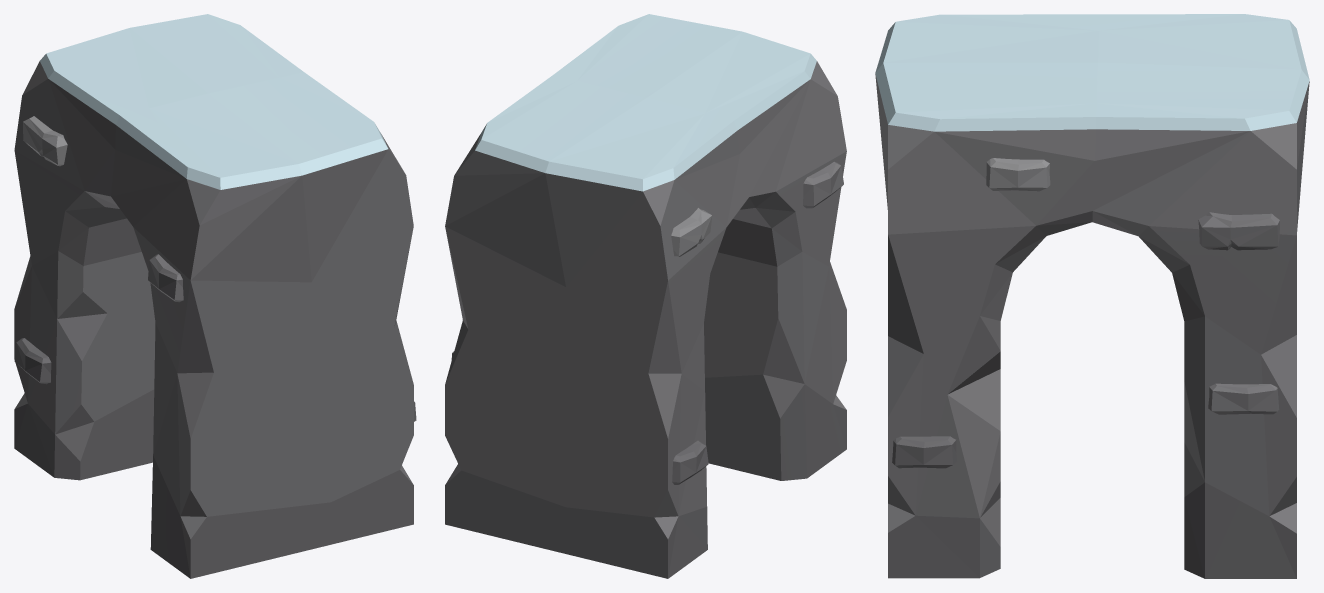
The model's file is SM_Bld_Rockwall_Archway_01_Snow.gltf.
3 views of the same model, side by side, from view 1: azimuth 30°, elevation 25°; view 2: azimuth 150°, elevation 25°; view 3: azimuth 270°, elevation 25° (orthographic). The views are drawn at different scales.
Visible parts, largest first — view 1: SM_Bld_Rockwall_Archway_01_Snow; view 2: SM_Bld_Rockwall_Archway_01_Snow; view 3: SM_Bld_Rockwall_Archway_01_Snow.
Part boxes in pixels (bbox=[...]): SM_Bld_Rockwall_Archway_01_Snow: bbox=[14, 14, 416, 578]; SM_Bld_Rockwall_Archway_01_Snow: bbox=[445, 14, 846, 578]; SM_Bld_Rockwall_Archway_01_Snow: bbox=[875, 14, 1309, 578].
Bounding box in the file's own units: 1.8 × 2.81 × 2.45.
1 material, 1 textured.
